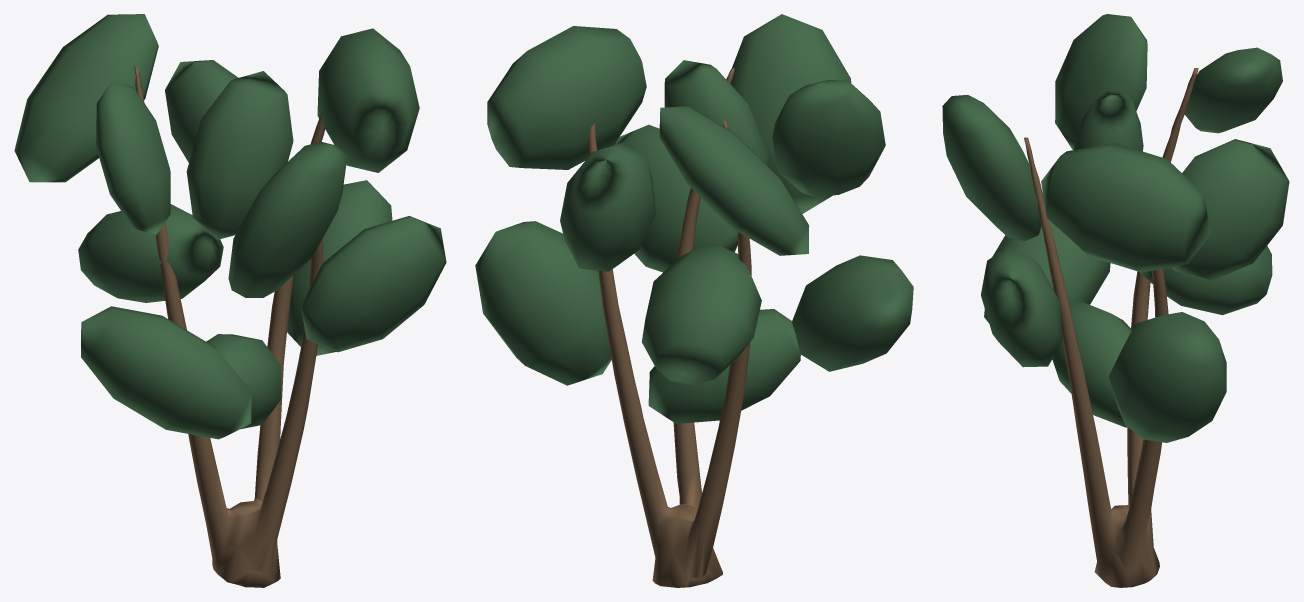
The model's file is Myrte_0_Niveau2.fbx.
3 views of the same model, side by side, from view 1: azimuth 30°, elevation 25°; view 2: azimuth 150°, elevation 25°; view 3: azimuth 270°, elevation 25° (orthographic). The views are drawn at different scales.
Parts seen in each view (by area): view 1: Myrte_0_Niveau2_Jeu; view 2: Myrte_0_Niveau2_Jeu; view 3: Myrte_0_Niveau2_Jeu.
Part boxes in pixels (<box>): Myrte_0_Niveau2_Jeu: <box>14,14,446,587</box>; Myrte_0_Niveau2_Jeu: <box>475,14,913,587</box>; Myrte_0_Niveau2_Jeu: <box>942,14,1289,587</box>.
Size of the model in its own units: 80.63 by 112 by 71.
